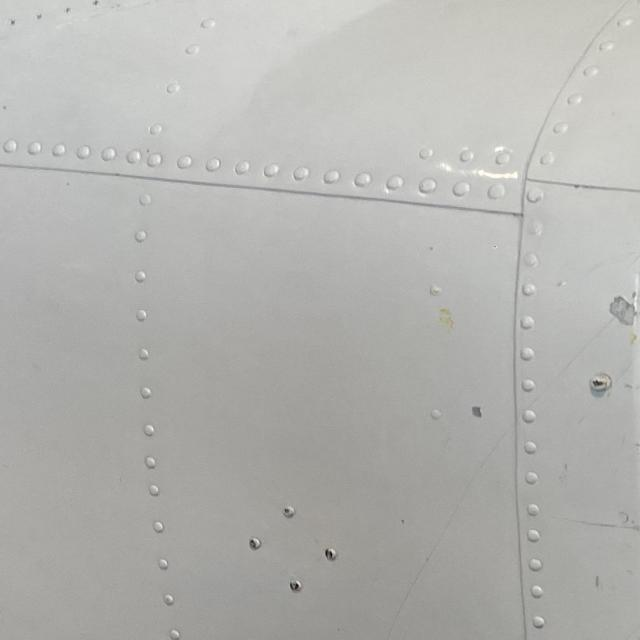Paint-off: (606, 297, 640, 326), (629, 623, 640, 640), (467, 406, 481, 419)
